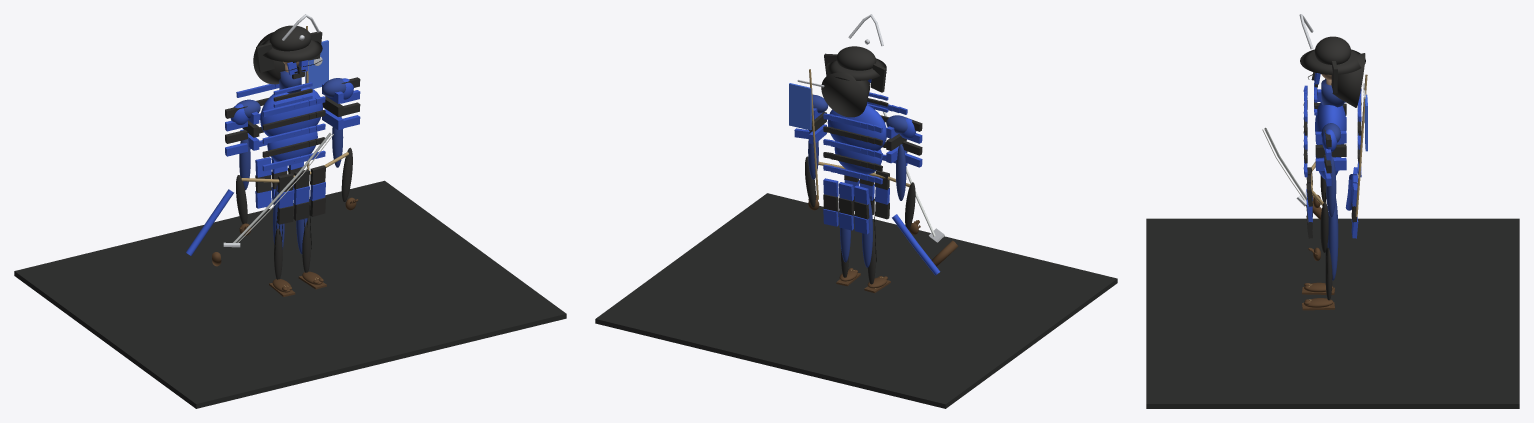
Rendered from samurai_character.glb.
3 renders of one model, left to right at view 1: azimuth 30°, elevation 25°; view 2: azimuth 150°, elevation 25°; view 3: azimuth 270°, elevation 25°, orthographic. The views are drawn at different scales.
Parts seen in each view (by area): view 1: matte charcoal inspection plinth, upper do cuirass fitted shell, segmented kabuto helmet bowl, wide kabuto brim, lower do cuirass narrowed shell, cloth sashimono banner panel, layered rear shikoro neck guard, lacquered saya scabbard at left hip; view 2: matte charcoal inspection plinth, layered rear shikoro neck guard, upper do cuirass fitted shell, cloth sashimono banner panel, segmented kabuto helmet bowl, lower do cuirass narrowed shell, wide kabuto brim, lacquered saya scabbard at left hip, left armored upper arm; view 3: matte charcoal inspection plinth, layered rear shikoro neck guard, segmented kabuto helmet bowl, wide kabuto brim, upper do cuirass fitted shell, right hakama trouser leg, right armored upper arm, bamboo sashimono back pole, neck guard collar, right kote forearm guard.
Part boxes in pixels (box(x1,y1,x2,y2)): matte charcoal inspection plinth: box(14, 180, 566, 408); upper do cuirass fitted shell: box(260, 87, 322, 136); segmented kabuto helmet bowl: box(269, 25, 311, 51); wide kabuto brim: box(259, 39, 322, 61); lower do cuirass narrowed shell: box(267, 131, 317, 161); cloth sashimono banner panel: box(305, 40, 328, 88); layered rear shikoro neck guard: box(253, 32, 299, 84); lacquered saya scabbard at left hip: box(186, 189, 233, 255); matte charcoal inspection plinth: box(595, 193, 1117, 408); layered rear shikoro neck guard: box(821, 72, 869, 117); upper do cuirass fitted shell: box(827, 105, 886, 151); cloth sashimono banner panel: box(789, 83, 811, 130); segmented kabuto helmet bowl: box(836, 46, 876, 70); lower do cuirass narrowed shell: box(834, 147, 882, 174); wide kabuto brim: box(826, 58, 886, 80); lacquered saya scabbard at left hip: box(892, 214, 940, 275); left armored upper arm: box(896, 144, 906, 200); matte charcoal inspection plinth: box(1146, 218, 1519, 408); layered rear shikoro neck guard: box(1332, 53, 1365, 107); segmented kabuto helmet bowl: box(1314, 36, 1351, 64); wide kabuto brim: box(1300, 49, 1365, 74); upper do cuirass fitted shell: box(1315, 102, 1346, 144); right hakama trouser leg: box(1327, 206, 1338, 280); right armored upper arm: box(1326, 156, 1336, 217); bamboo sashimono back pole: box(1355, 74, 1367, 216); neck guard collar: box(1321, 79, 1344, 107); right kote forearm guard: box(1320, 201, 1328, 252).
Size of the model in its own units: 4 by 3.04 by 3.4.
